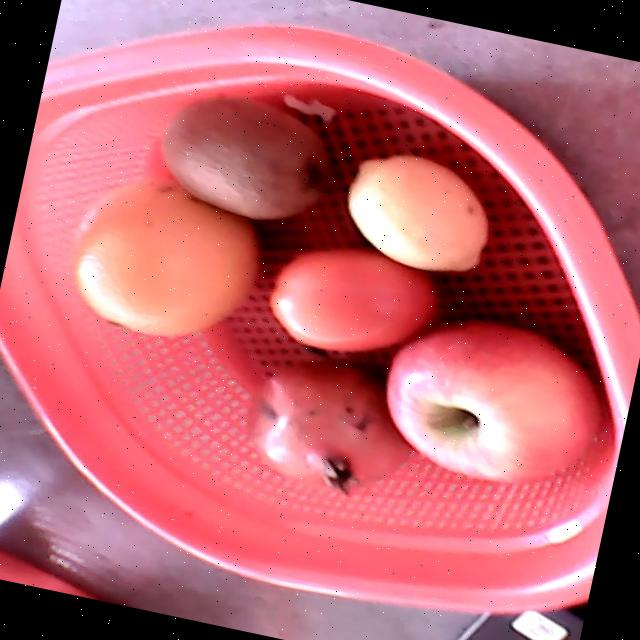apple: (385, 319, 603, 486)
kiwi: (161, 95, 329, 220)
lemon: (348, 155, 488, 269)
orange: (73, 183, 256, 336)
pomegranate: (250, 363, 411, 496)
tomato: (268, 247, 436, 350)
